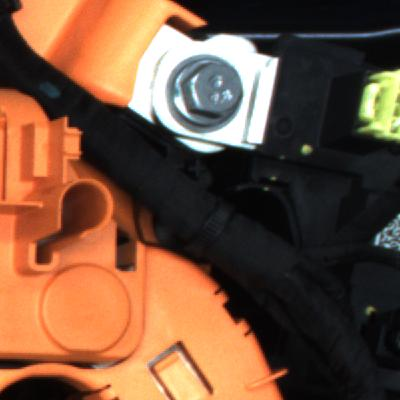nut_b: (170, 41, 253, 140)
